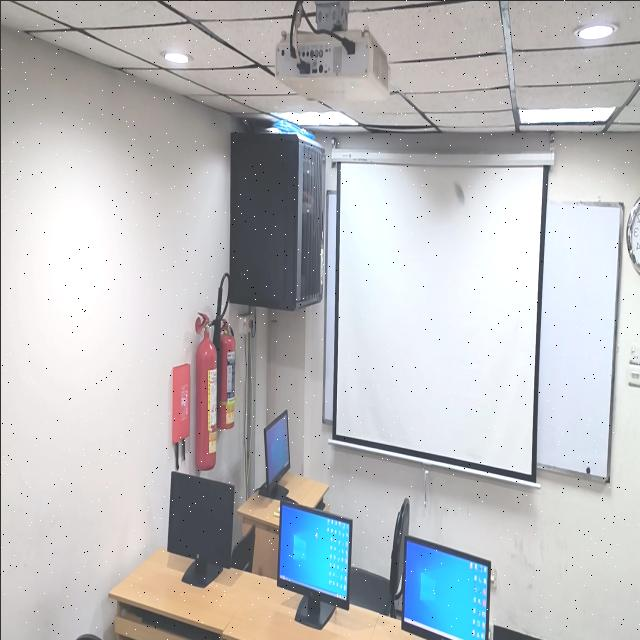Chair: (349, 497, 409, 617)
Fire Extinguisher: (194, 313, 217, 469), (218, 325, 235, 428)
Light: (518, 106, 615, 125), (271, 109, 358, 127), (576, 24, 614, 39), (163, 51, 188, 62)
Monitor: (401, 535, 490, 640), (277, 501, 351, 627), (166, 471, 233, 586), (259, 409, 289, 495)
Projector: (275, 30, 389, 99)
